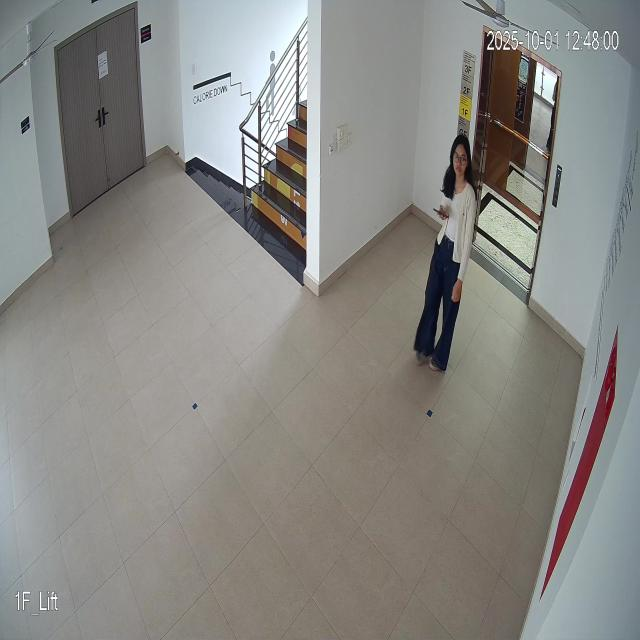face: (450, 132, 471, 181)
